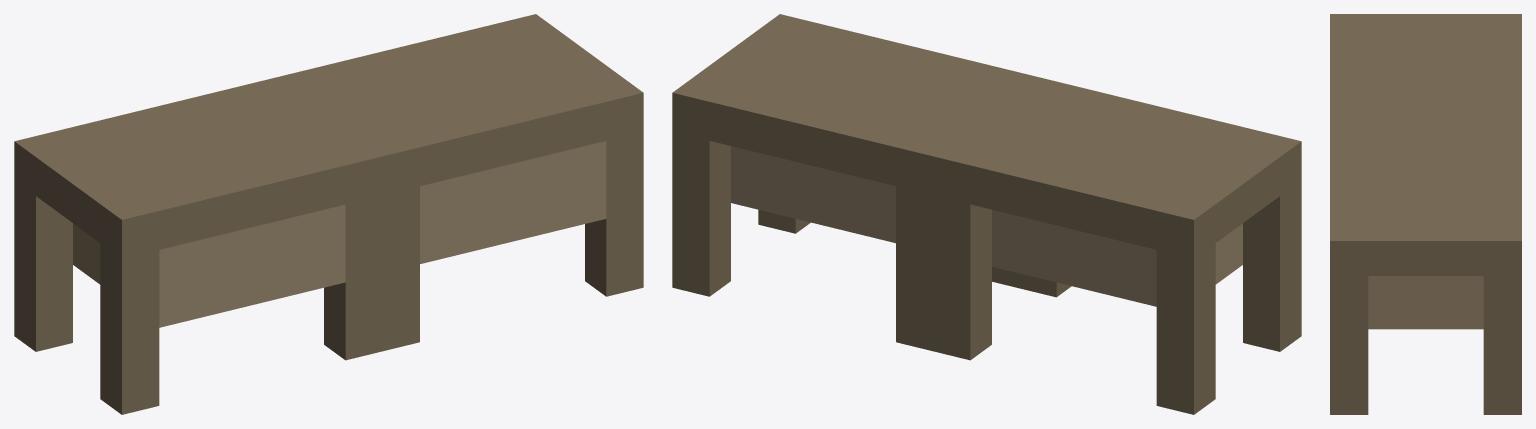
Rendered from banco_madera_02.glb.
3 views of the same model, side by side, from view 1: azimuth 30°, elevation 25°; view 2: azimuth 150°, elevation 25°; view 3: azimuth 270°, elevation 25° (orthographic). The views are drawn at different scales.
Visible parts, largest first — view 1: banco_madera_02; view 2: banco_madera_02; view 3: banco_madera_02.
Boxes of the visible parts, x1,y1,x2,y2 form: banco_madera_02: (14, 14, 643, 414); banco_madera_02: (672, 14, 1301, 414); banco_madera_02: (1330, 14, 1521, 414).
Size of the model in its own units: 1.4 by 0.5 by 0.5.
